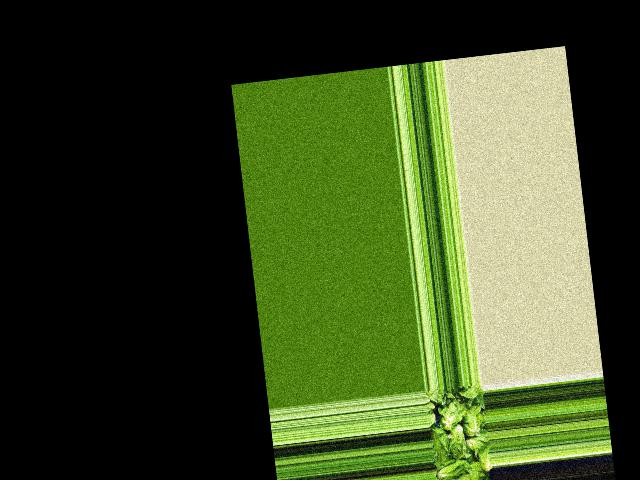lettuce: (475, 441, 492, 477)
